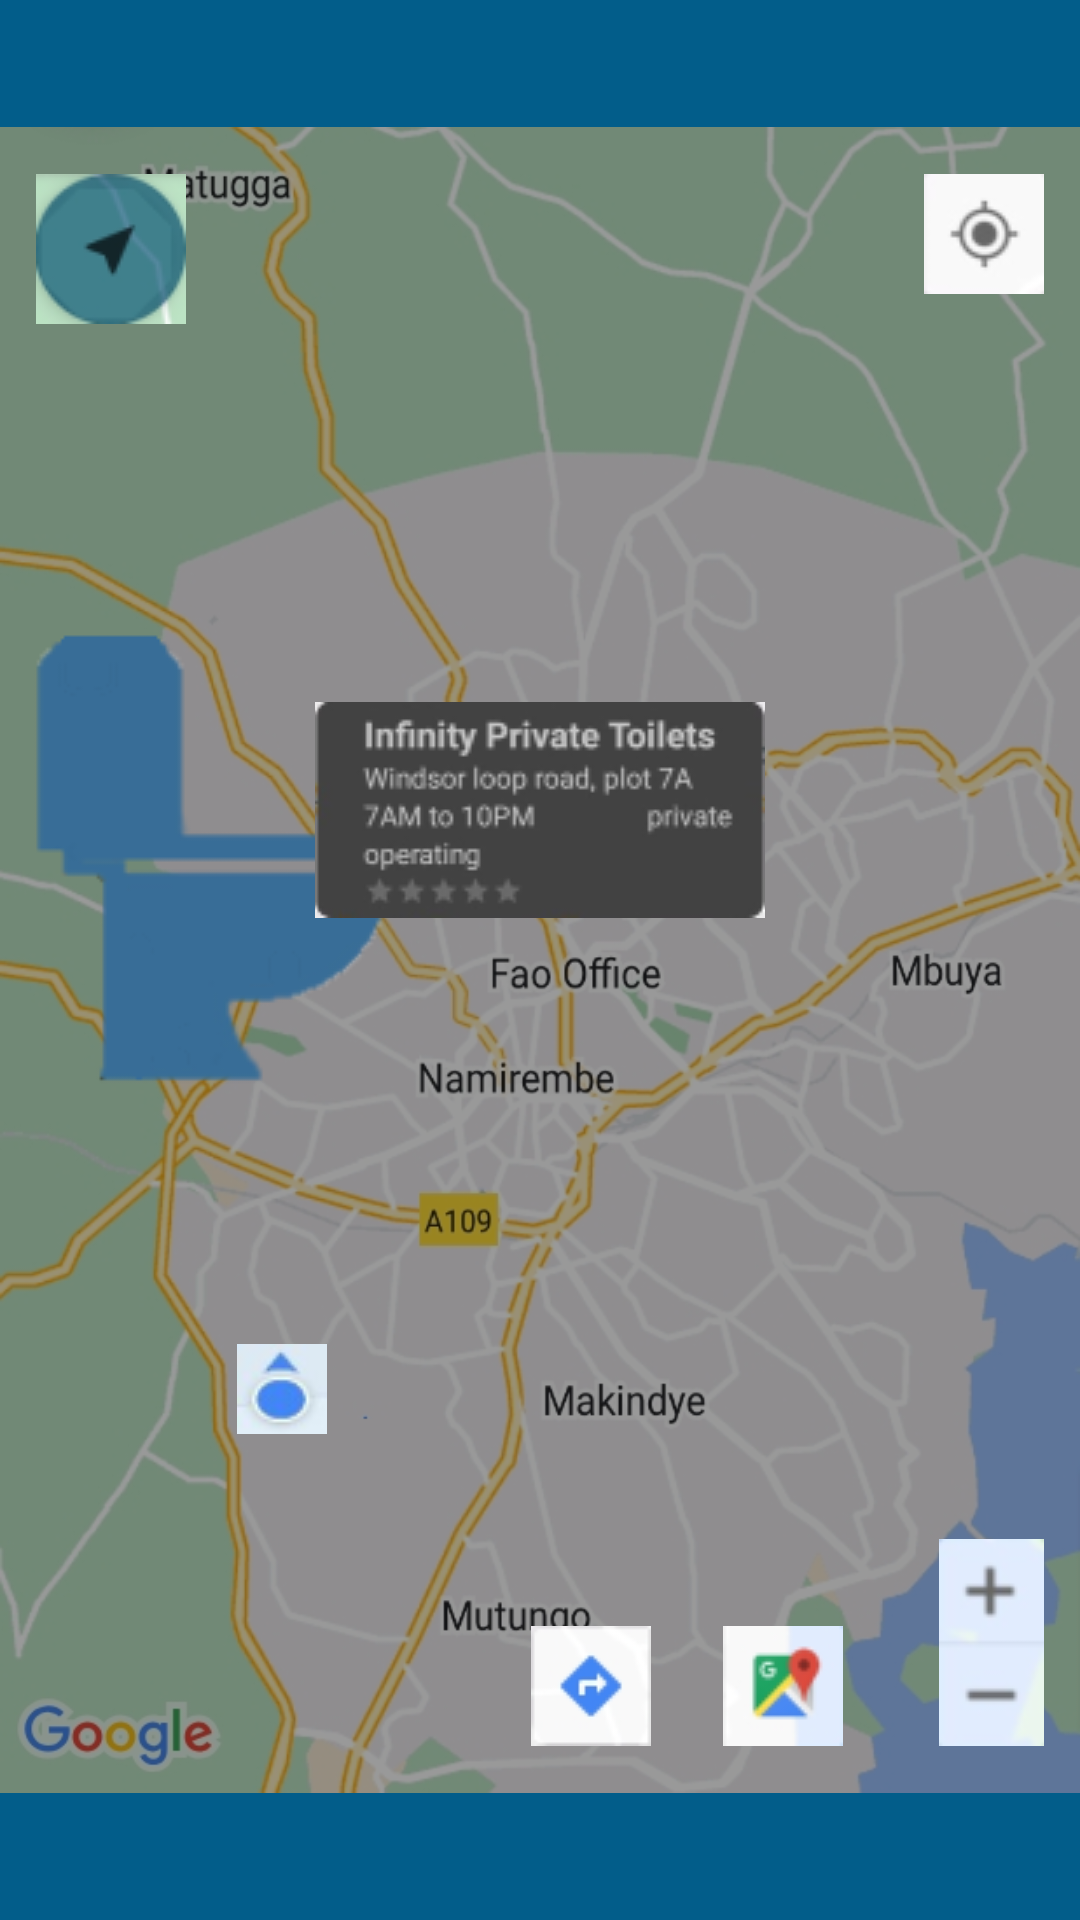

Locate icon controls on the screen. Image size 1080x1920, boxes as [x1, y1, x2, y2].
ctl tutorial dir: [495, 1602, 651, 1746]
ctl tutorial fab: [36, 165, 222, 324]
ctl tutorial zoom: [903, 1509, 1080, 1746]
